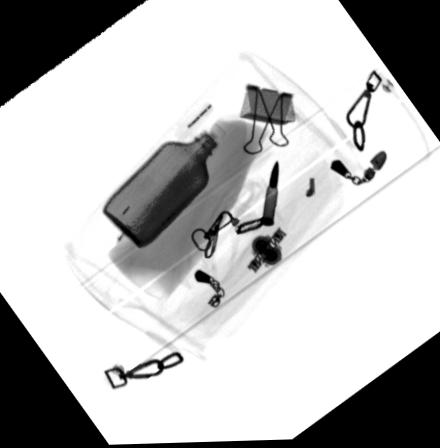Bullet: (258, 160, 279, 228)
